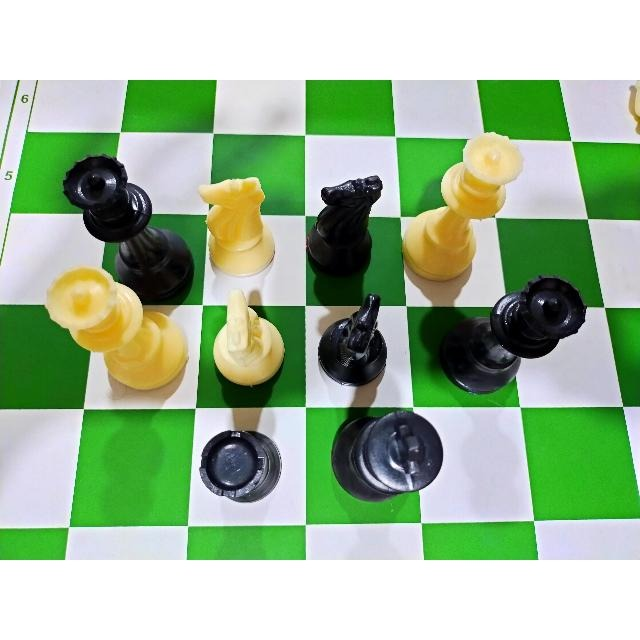black-king: (328, 407, 448, 502)
black-knight: (307, 296, 396, 390), (307, 173, 382, 281)
black-queen: (427, 280, 588, 389), (52, 154, 196, 270)
black-rook: (195, 422, 293, 506)
white-knight: (200, 290, 290, 388), (198, 175, 284, 274)
white-queen: (403, 128, 527, 278), (36, 265, 187, 386)
